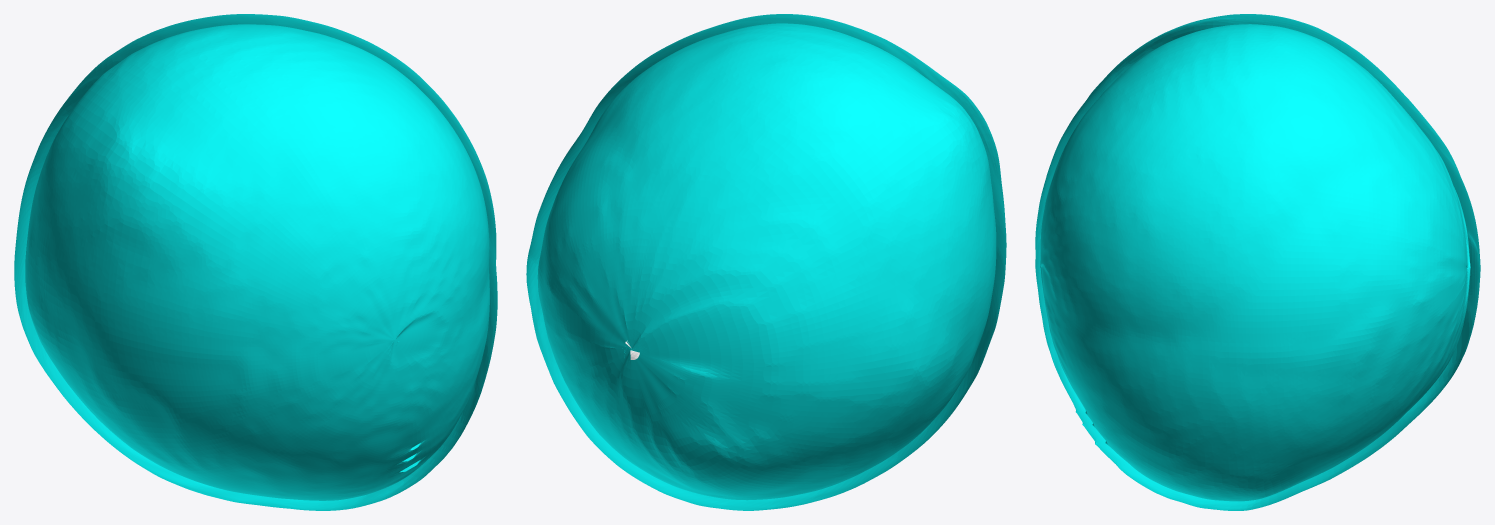
3 views of the same model, side by side, from view 1: azimuth 30°, elevation 25°; view 2: azimuth 150°, elevation 25°; view 3: azimuth 270°, elevation 25° (orthographic). The views are drawn at different scales.
Parts seen in each view (by area): view 1: Renderer Node; view 2: Renderer Node; view 3: Renderer Node.
Boxes of the visible parts, left/top/right/bottom form: Renderer Node: left=14, top=14, right=497, bottom=510; Renderer Node: left=526, top=14, right=1006, bottom=510; Renderer Node: left=1035, top=14, right=1480, bottom=510.
Size of the model in its own units: 1.14e+10 by 1.24e+10 by 1.16e+10.
